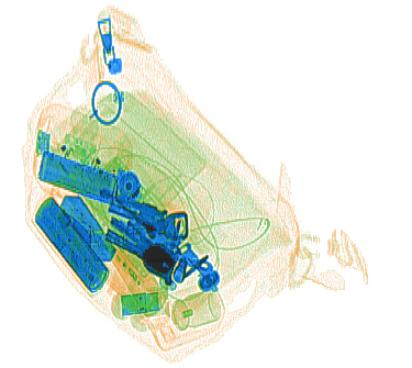USBFlashDisk: (119, 289, 161, 315)
battery: (33, 192, 112, 295), (37, 150, 117, 205)
pressure: (167, 289, 222, 331)
